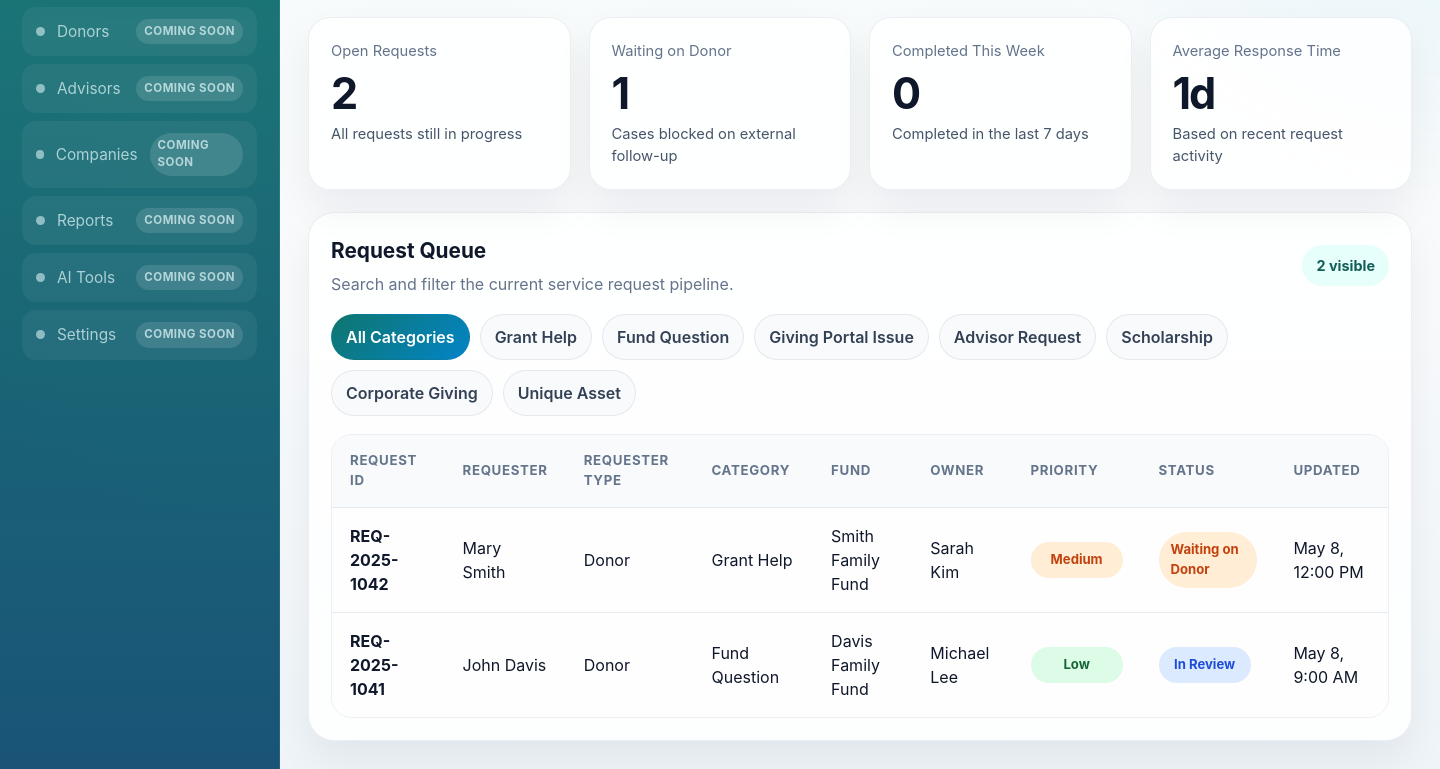
Test: RequestsPage › Generate Draft button renders in the drawer
(page scrolled)
Click the text "REQ-2025-1042": (388, 560) [332,508,444,612]
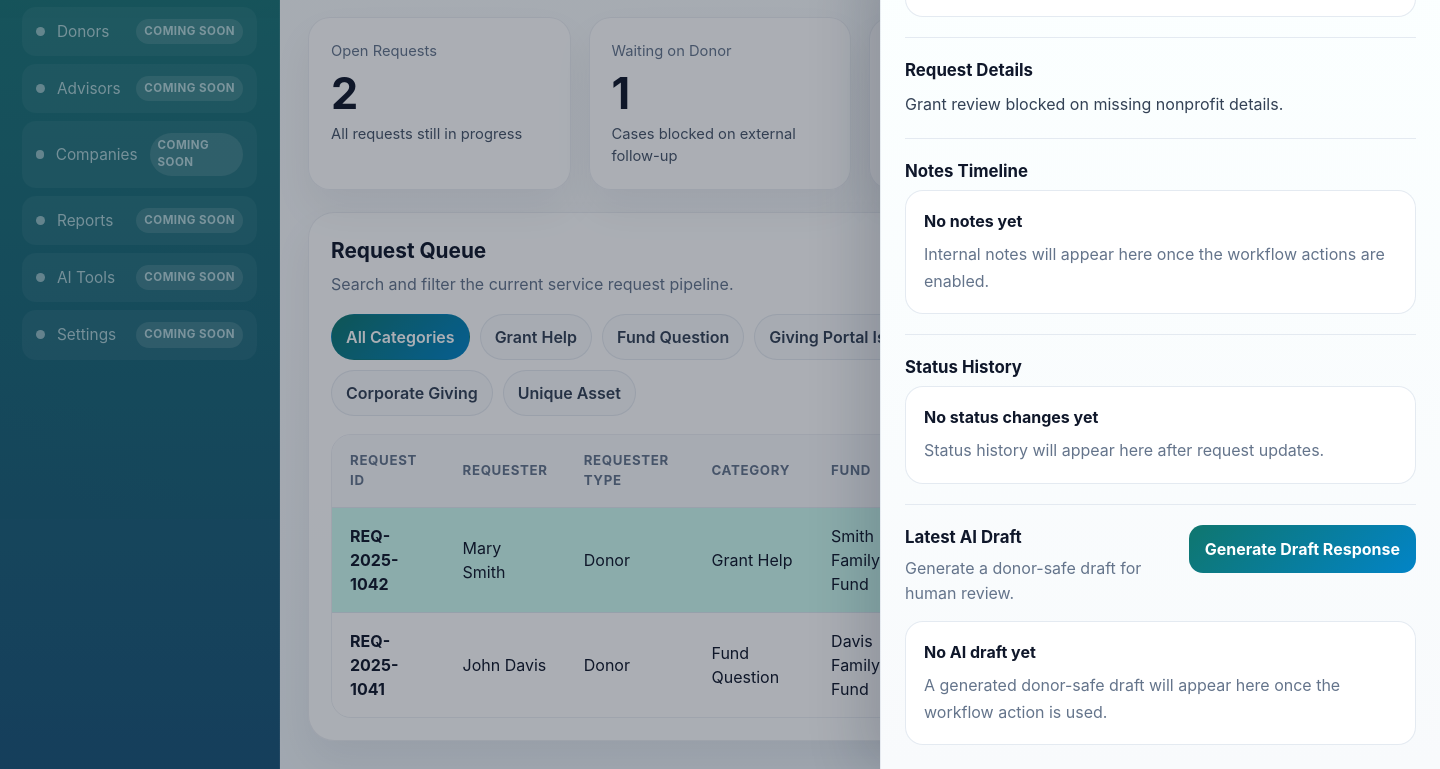
Result: the button "Generate Draft Response" is shown at [1189,524,1416,572]
